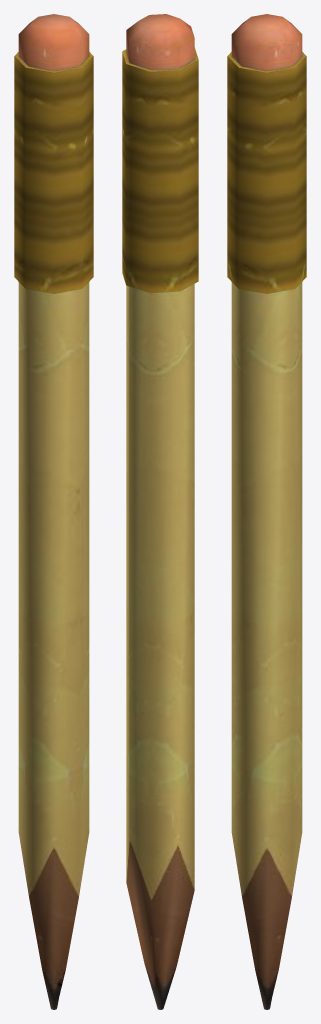
File: Pencil 1.obj
3 renders of one model, left to right at view 1: azimuth 90°, elevation 25°; view 2: azimuth 210°, elevation 25°; view 3: azimuth 270°, elevation 25°, orthographic.
Parts seen in each view (by area): view 1: Pencil_1; view 2: Pencil_1; view 3: Pencil_1.
Boxes of the visible parts, left/top/right/bottom form: Pencil_1: left=14, top=14, right=93, bottom=1009; Pencil_1: left=122, top=14, right=198, bottom=1009; Pencil_1: left=227, top=14, right=306, bottom=1009.
Size of the model in its own units: 0.0771 by 1.06 by 0.0771.
